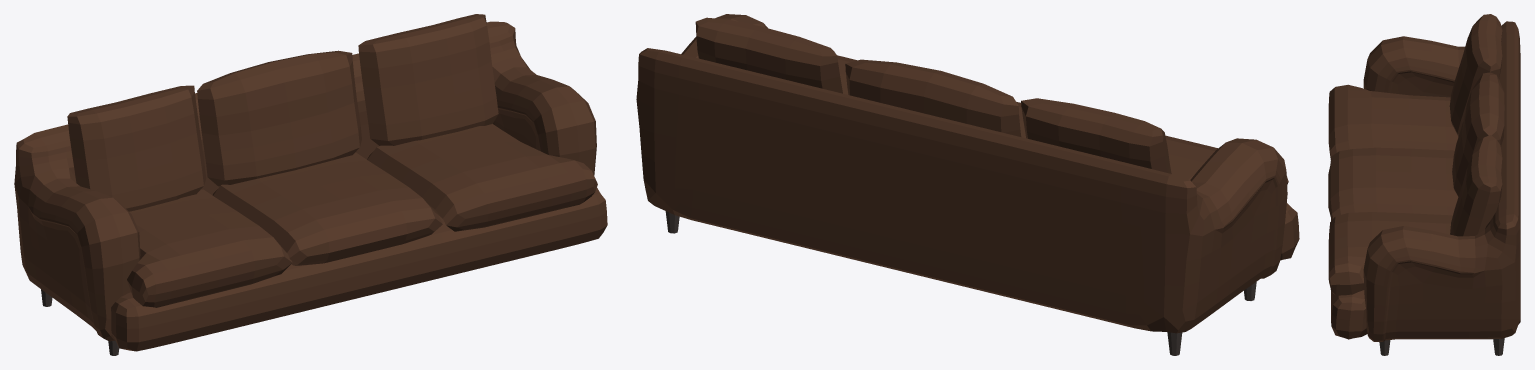
File: Sofa2.glb
3 renders of one model, left to right at view 1: azimuth 30°, elevation 25°; view 2: azimuth 150°, elevation 25°; view 3: azimuth 270°, elevation 25°, orthographic. The views are drawn at different scales.
Parts seen in each view (by area): view 1: Sofa2; view 2: Sofa2; view 3: Sofa2.
Part boxes in pixels (x1,y1,x2,y2): Sofa2: (14,14,607,355); Sofa2: (636,14,1299,355); Sofa2: (1328,14,1520,355).
Size of the model in its own units: 2.66 by 0.9659 by 1.02.
Materials: 2 (2 with a texture image).
